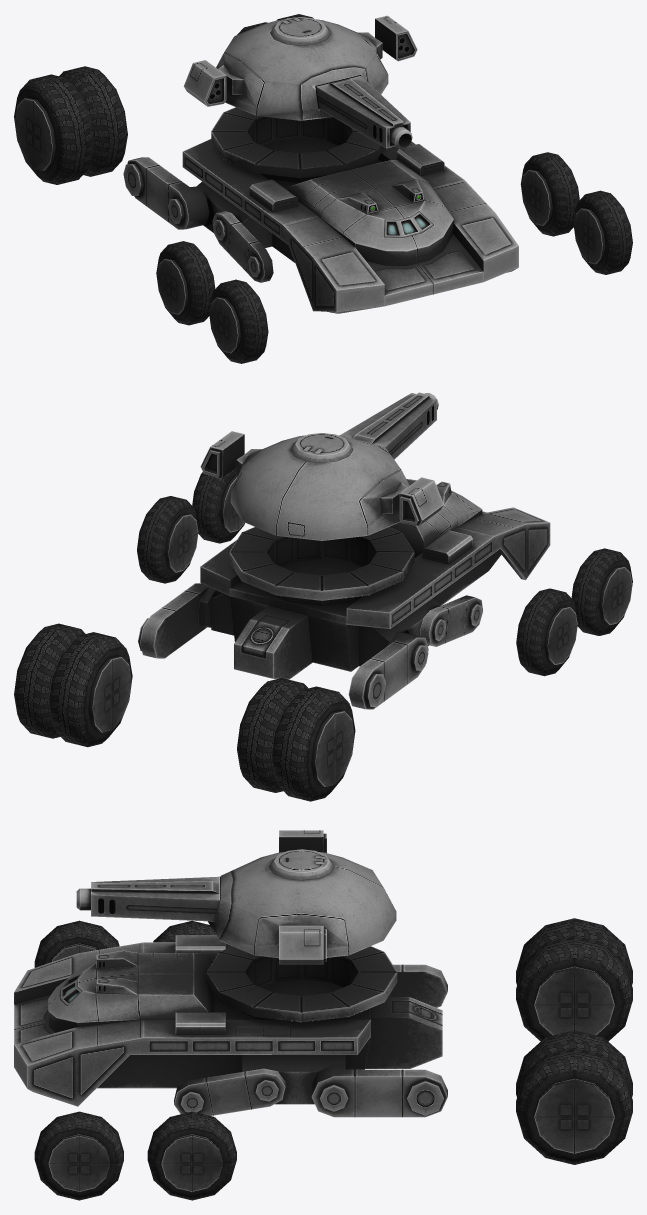
The model's file is Tokugawa_exp.FBX.
3 renders of one model, top to bottom at view 1: azimuth 30°, elevation 25°; view 2: azimuth 150°, elevation 25°; view 3: azimuth 270°, elevation 25°, orthographic. The views are drawn at different scales.
Visible parts, largest first — view 1: Object01, turret, wheel6, wheel4, wheel1, wheel5, wheel2, mantlet_1, launcher_2; view 2: Object01, turret, wheel3, wheel6, wheel5, wheel2, wheel4, mantlet_1, launcher_2, wheel1; view 3: Object01, turret, wheel3, wheel6, wheel2, wheel1, mantlet_1, launcher_2, wheel4, wheel5.
Boxes of the visible parts, x1=… form: Object01: x1=123, y1=107, x2=518, y2=313; turret: x1=216, y1=17, x2=388, y2=120; wheel6: x1=14, y1=66, x2=127, y2=184; wheel4: x1=209, y1=279, x2=268, y2=363; wheel1: x1=573, y1=190, x2=632, y2=274; wheel5: x1=156, y1=241, x2=215, y2=325; wheel2: x1=520, y1=152, x2=579, y2=236; mantlet_1: x1=315, y1=76, x2=410, y2=148; launcher_2: x1=183, y1=15, x2=417, y2=106; Object01: x1=138, y1=479, x2=550, y2=709; turret: x1=230, y1=433, x2=409, y2=540; wheel3: x1=14, y1=623, x2=132, y2=747; wheel6: x1=237, y1=678, x2=355, y2=801; wheel5: x1=516, y1=588, x2=578, y2=676; wheel2: x1=137, y1=496, x2=198, y2=583; wheel4: x1=571, y1=548, x2=632, y2=635; mantlet_1: x1=340, y1=392, x2=436, y2=459; launcher_2: x1=200, y1=431, x2=443, y2=525; wheel1: x1=192, y1=468, x2=244, y2=543; Object01: x1=14, y1=935, x2=447, y2=1117; turret: x1=208, y1=849, x2=396, y2=957; wheel3: x1=516, y1=1030, x2=632, y2=1164; wheel6: x1=516, y1=918, x2=632, y2=1041; wheel2: x1=147, y1=1111, x2=236, y2=1200; wheel1: x1=34, y1=1111, x2=123, y2=1200; mantlet_1: x1=91, y1=876, x2=220, y2=921; launcher_2: x1=279, y1=830, x2=326, y2=964; wheel4: x1=34, y1=920, x2=119, y2=967; wheel5: x1=153, y1=920, x2=215, y2=942.
Bounding box in the file's own units: 59.03 × 31.17 × 74.77.
Materials: 1 (1 with a texture image).
